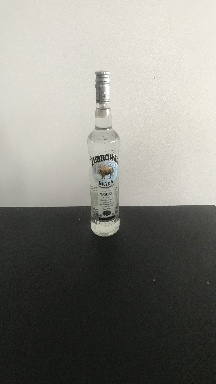butelka: (85, 67, 121, 239)
